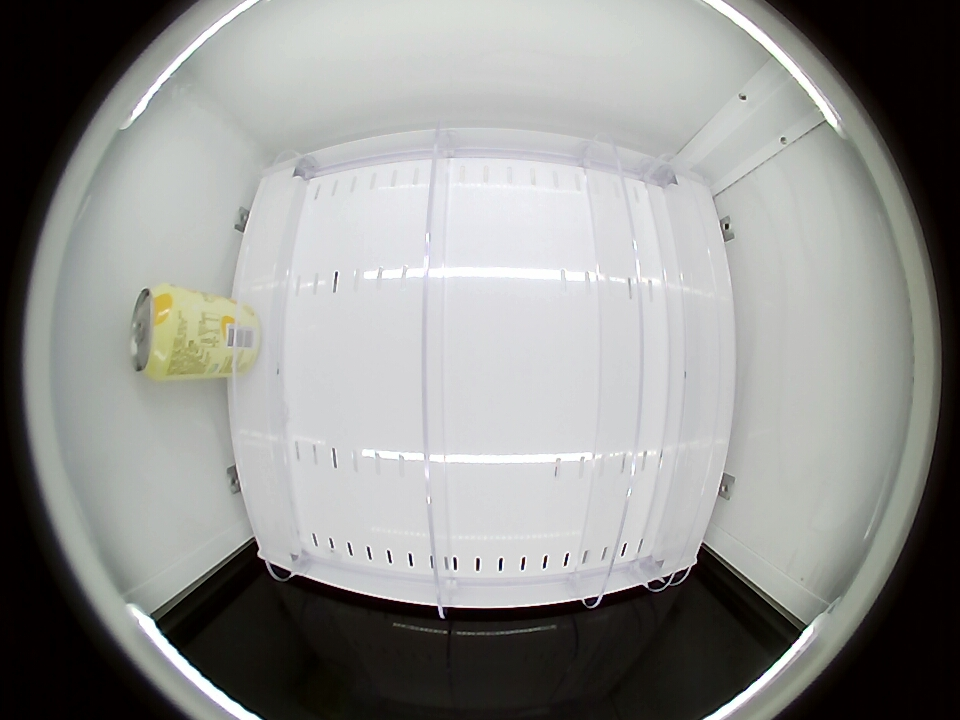mangguoxiaolao: (129, 285, 187, 379)
